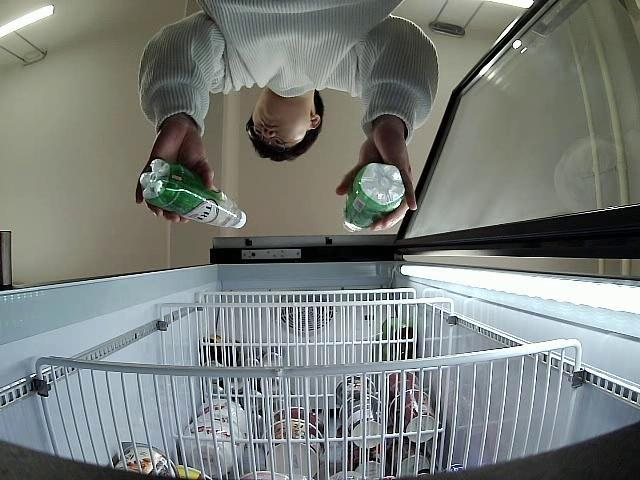18_trevi: (140, 158, 248, 230), (344, 162, 406, 229)
